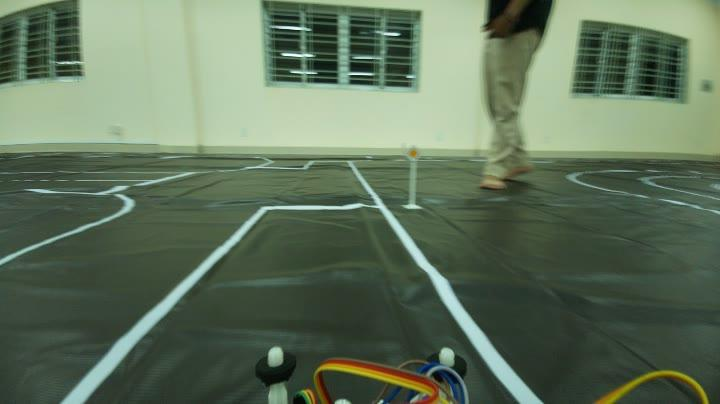priority: (404, 143, 426, 165)
